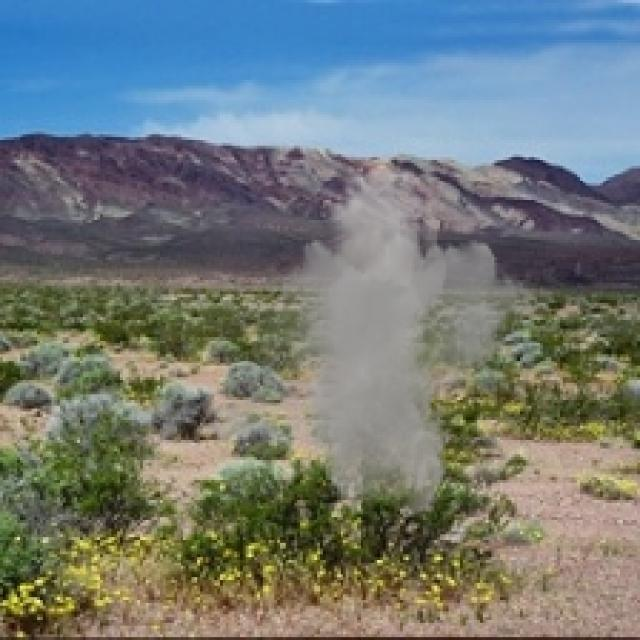smoke: (197, 169, 540, 517)
